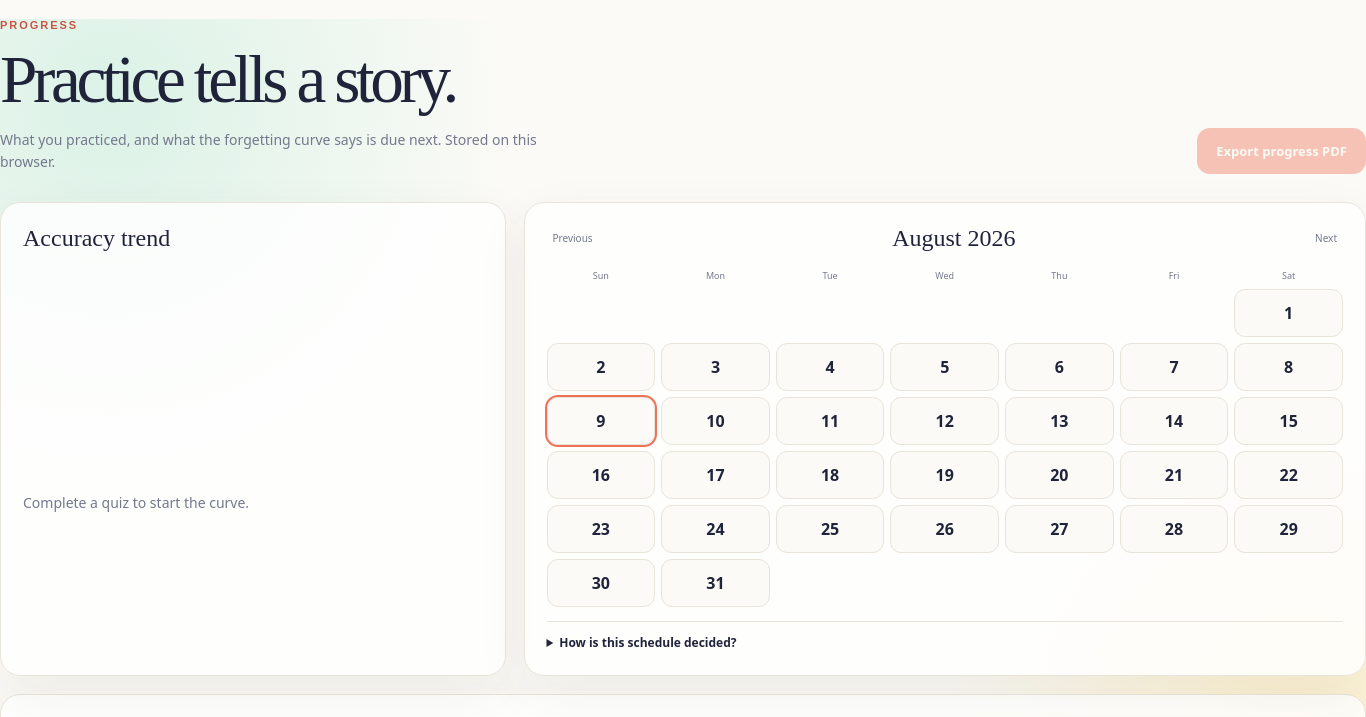
Scenario: explains the review ladder in the same intervals the scheduler uses
Click the heading "How is this schedule decided?": (648, 643) [559,634,736,651]
(page scrolled)
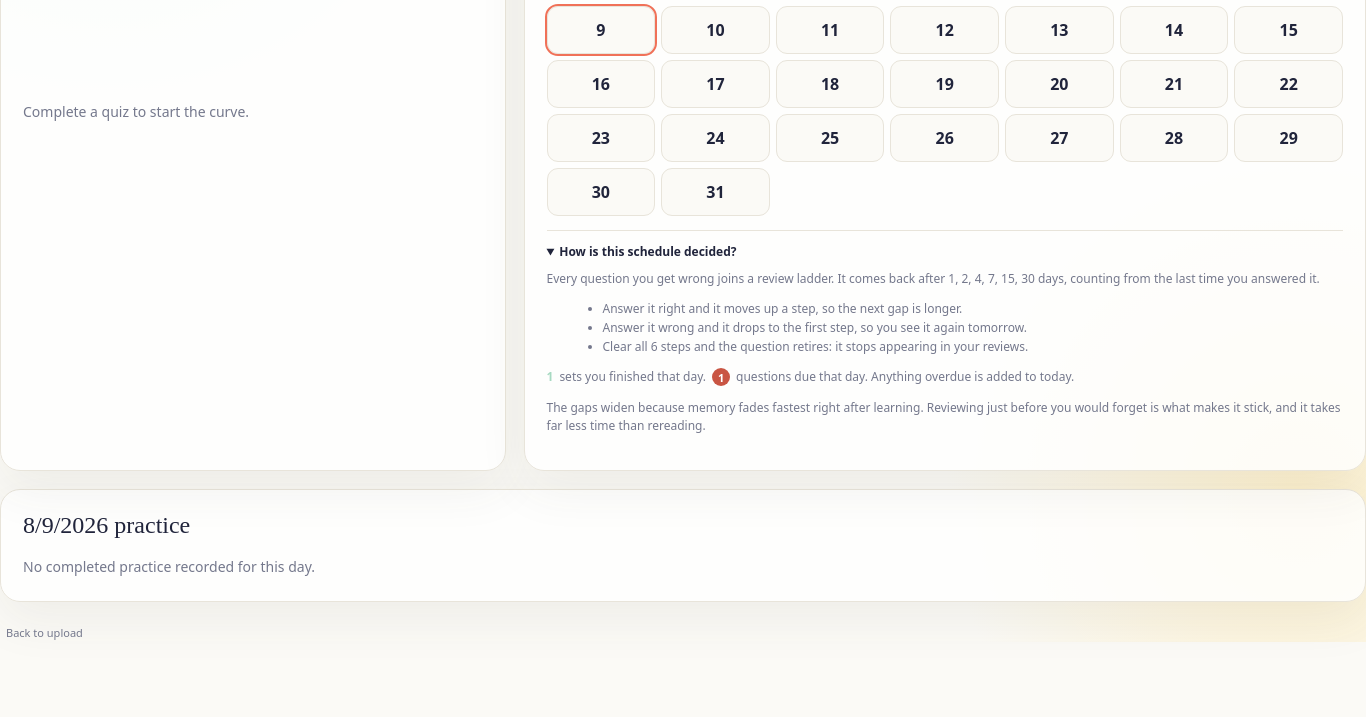
Now the text "1, 2, 4, 7, 15, 30 days" is shown, box [546,270,1320,287]
Now the list item "moves up a step" is shown, box [602,300,962,317]
Now the list item "drops to the first step" is shown, box [602,319,1027,336]
